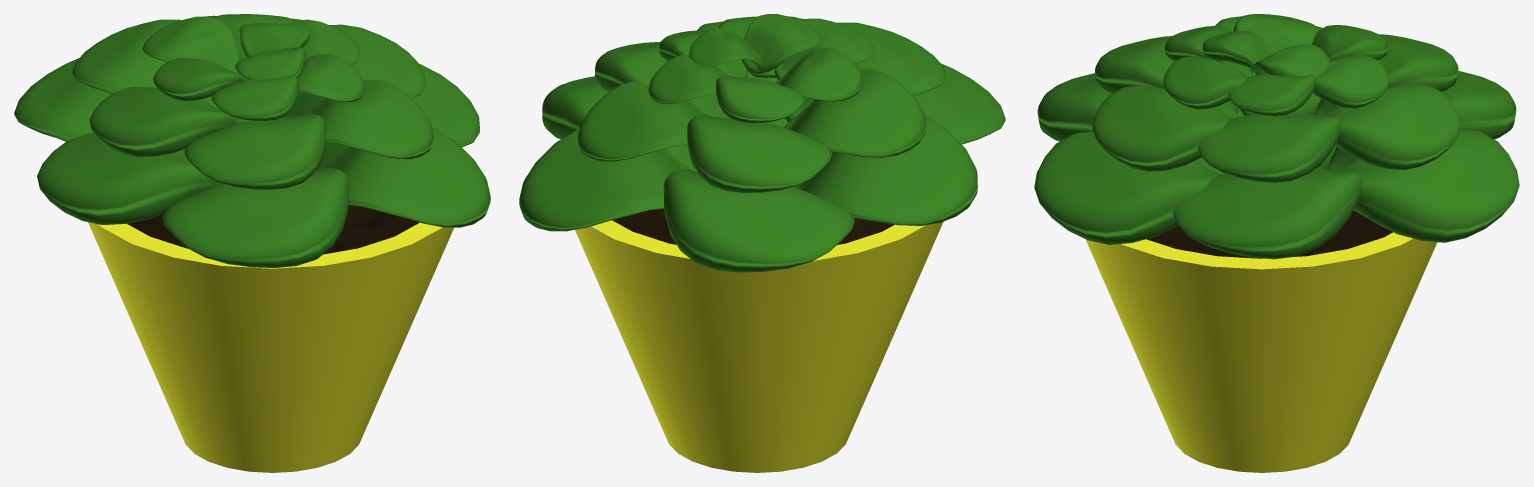
File: Plant - Small.fbx
3 renders of one model, left to right at view 1: azimuth 30°, elevation 25°; view 2: azimuth 150°, elevation 25°; view 3: azimuth 270°, elevation 25°, orthographic. The views are drawn at different scales.
Visible parts, largest first — view 1: Cone001, ChamferCyl004, ChamferCyl006, ChamferCyl005, ChamferCyl010, ChamferCyl012, ChamferCyl011, ChamferCyl002, ChamferCyl008, ChamferCyl013, ChamferCyl014, ChamferCyl007 (+8 smaller); view 2: Cone001, ChamferCyl002, ChamferCyl006, ChamferCyl003, ChamferCyl008, ChamferCyl012, ChamferCyl009, ChamferCyl004, ChamferCyl010, ChamferCyl014, ChamferCyl018, ChamferCyl013 (+8 smaller); view 3: Cone001, ChamferCyl007, ChamferCyl003, ChamferCyl005, ChamferCyl009, ChamferCyl011, ChamferCyl013, ChamferCyl002, ChamferCyl008, ChamferCyl010, ChamferCyl004, ChamferCyl017 (+9 smaller).
Boxes of the visible parts, <box> form: Cone001: <box>88,222,453,472</box>; ChamferCyl004: <box>162,167,349,267</box>; ChamferCyl006: <box>37,132,222,224</box>; ChamferCyl005: <box>321,127,490,227</box>; ChamferCyl010: <box>184,113,326,189</box>; ChamferCyl012: <box>89,87,239,157</box>; ChamferCyl011: <box>305,79,433,159</box>; ChamferCyl002: <box>14,58,110,141</box>; ChamferCyl008: <box>72,19,219,108</box>; ChamferCyl013: <box>284,24,425,116</box>; ChamferCyl014: <box>142,16,239,73</box>; ChamferCyl007: <box>317,64,479,168</box>; Cone001: <box>575,220,943,472</box>; ChamferCyl002: <box>663,169,854,272</box>; ChamferCyl006: <box>793,115,977,225</box>; ChamferCyl003: <box>519,129,691,231</box>; ChamferCyl008: <box>687,115,832,193</box>; ChamferCyl012: <box>784,69,925,157</box>; ChamferCyl009: <box>577,81,708,161</box>; ChamferCyl004: <box>914,63,1005,144</box>; ChamferCyl010: <box>785,22,946,122</box>; ChamferCyl014: <box>716,75,804,123</box>; ChamferCyl018: <box>775,47,862,101</box>; ChamferCyl013: <box>595,41,729,118</box>; Cone001: <box>1085,232,1437,472</box>; ChamferCyl007: <box>1173,168,1361,259</box>; ChamferCyl003: <box>1338,129,1519,242</box>; ChamferCyl005: <box>1034,131,1221,244</box>; ChamferCyl009: <box>1323,84,1460,169</box>; ChamferCyl011: <box>1092,85,1233,171</box>; ChamferCyl013: <box>1197,112,1341,182</box>; ChamferCyl002: <box>1327,71,1516,169</box>; ChamferCyl008: <box>1314,34,1458,115</box>; ChamferCyl010: <box>1095,36,1239,118</box>; ChamferCyl004: <box>1037,73,1223,173</box>; ChamferCyl017: <box>1163,56,1249,109</box>.
Size of the model in its own units: 5.74 by 5.32 by 5.93.
